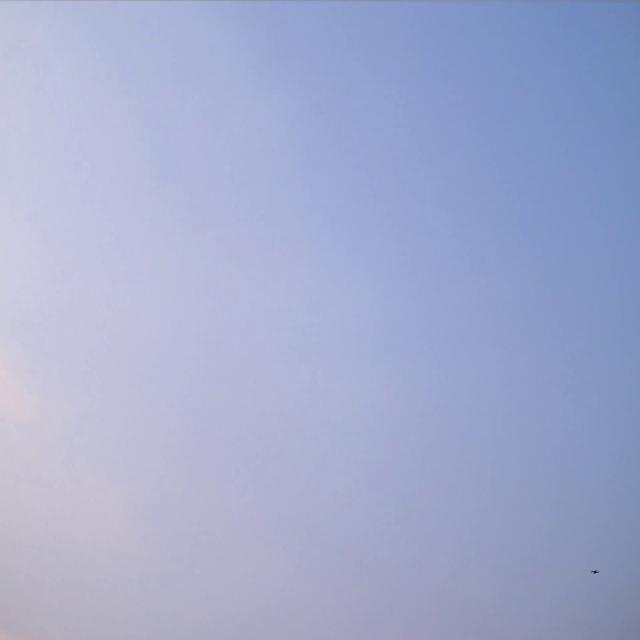UAV: (590, 568, 601, 576)
